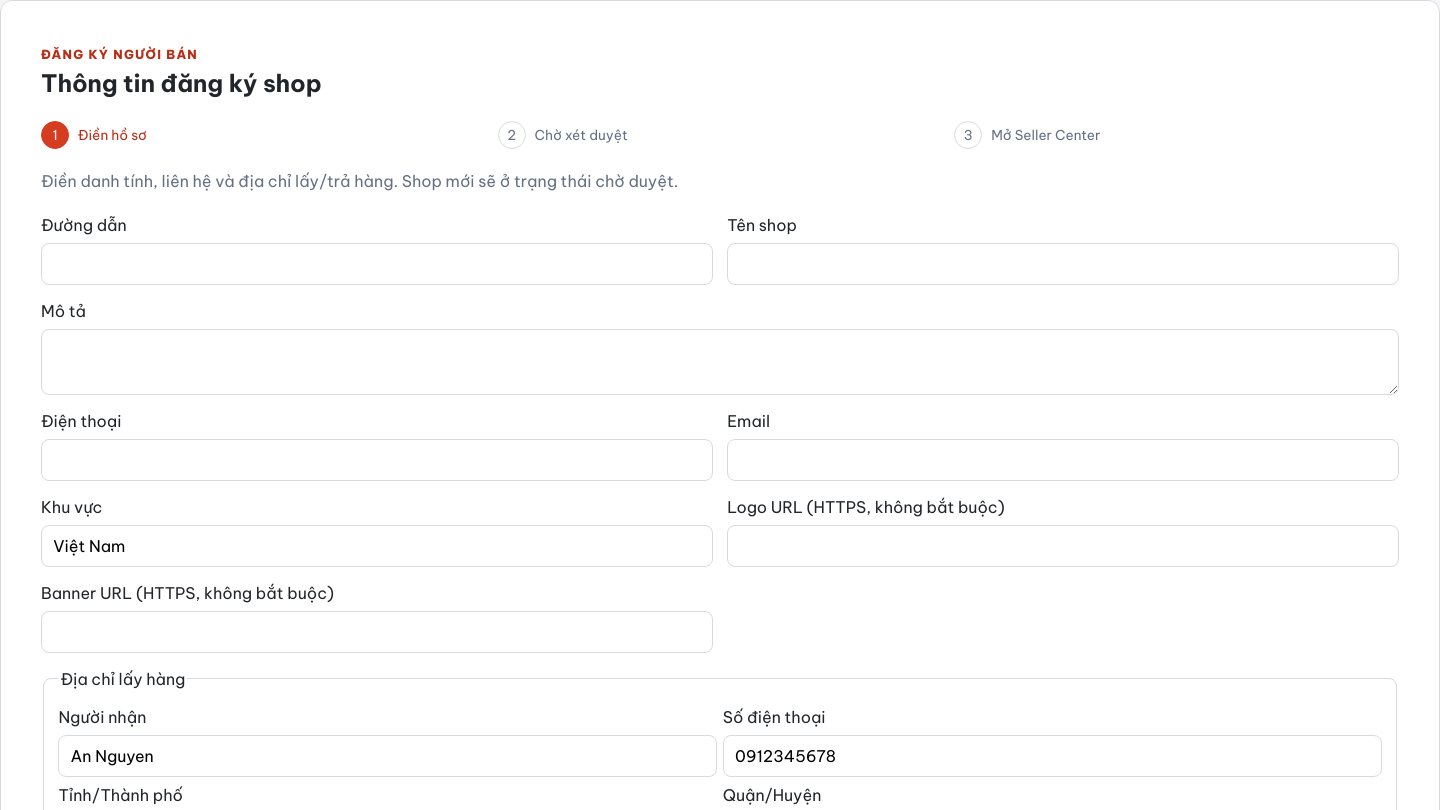
SellerShopManagement › recovers from a duplicate registration response without losing the form
Type "duplicate-shop" into the field named "slug". click: point(377, 264)
box: x1=41 y1=243 x2=713 y2=285
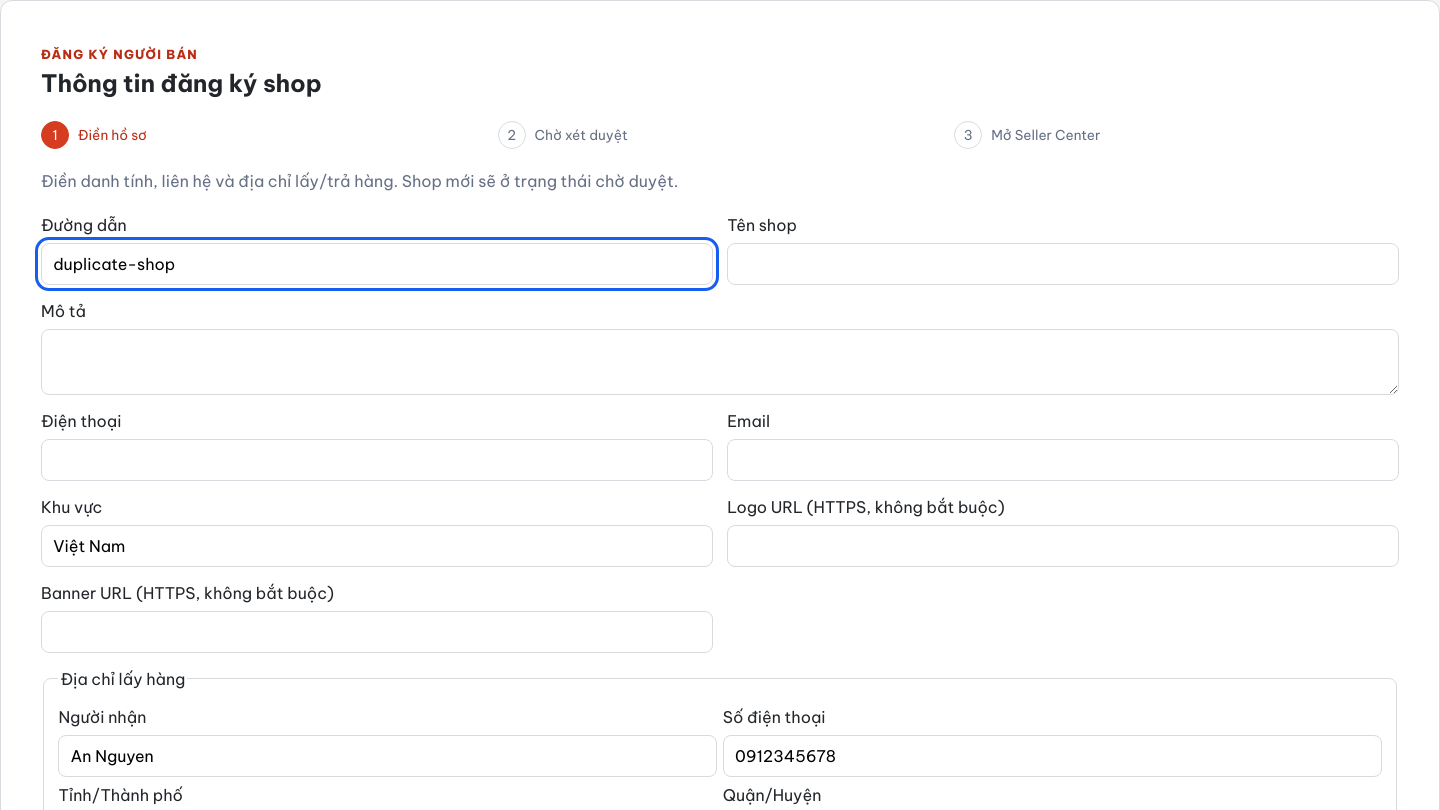
Type "Duplicate Shop" into the field named "name". click: point(1063, 264)
box: x1=727 y1=243 x2=1399 y2=285
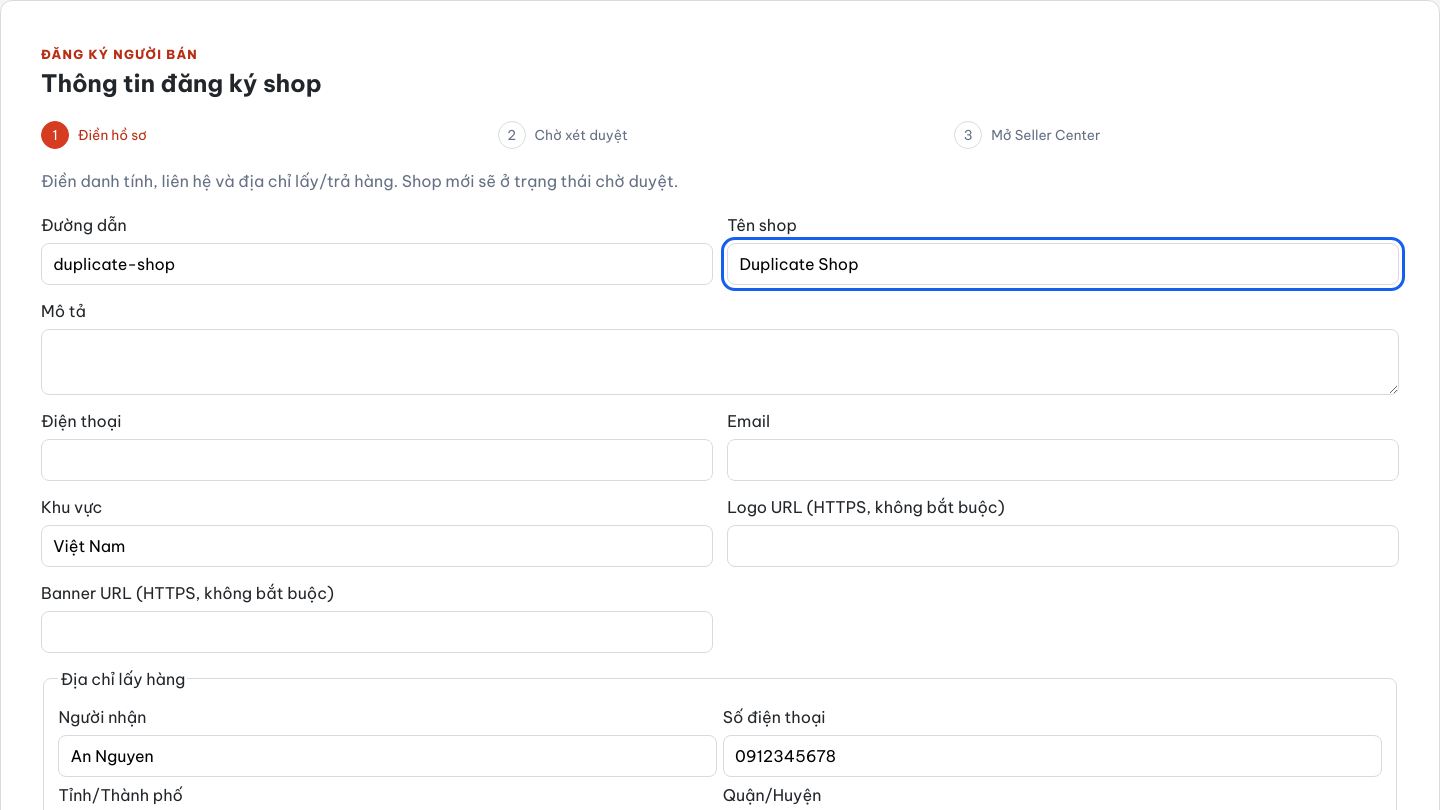
Type "0912345678" into the field named "contactPhone". click: point(377, 460)
box: x1=41 y1=439 x2=713 y2=481
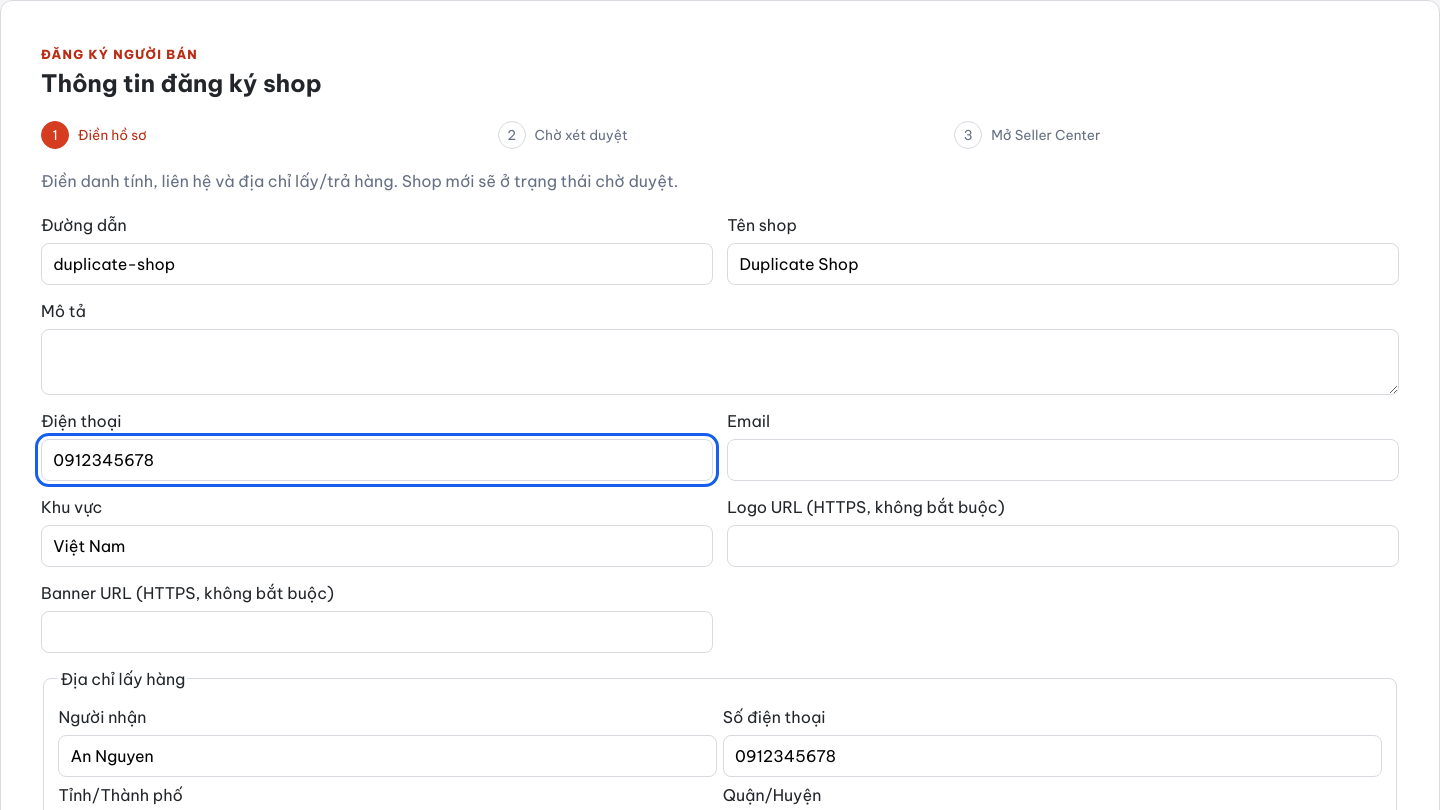
Type "duplicate@example.test" into the field named "contactEmail". click: point(1063, 460)
box: x1=727 y1=439 x2=1399 y2=481
(page scrolled)
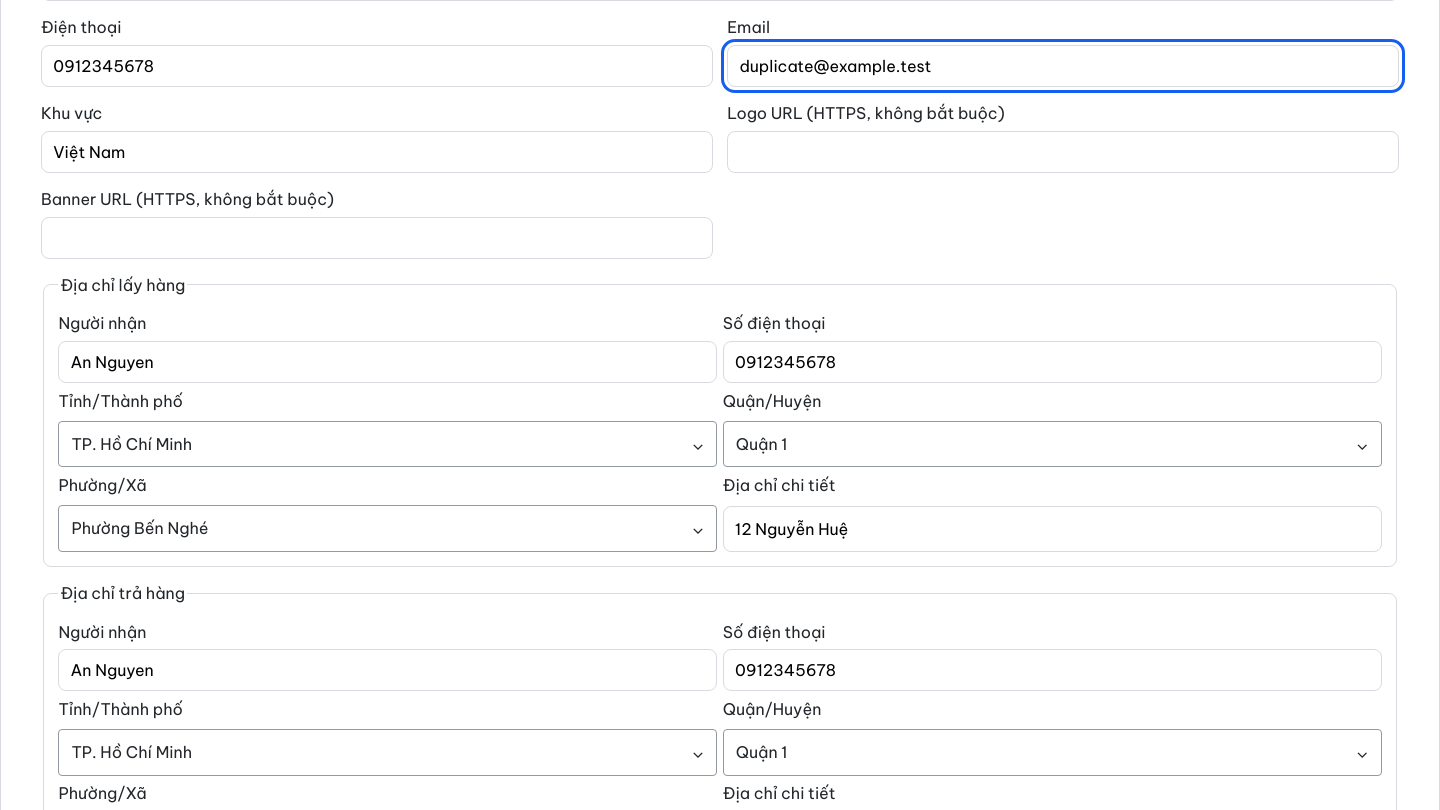
Submit the form with class "seller-shop-form"
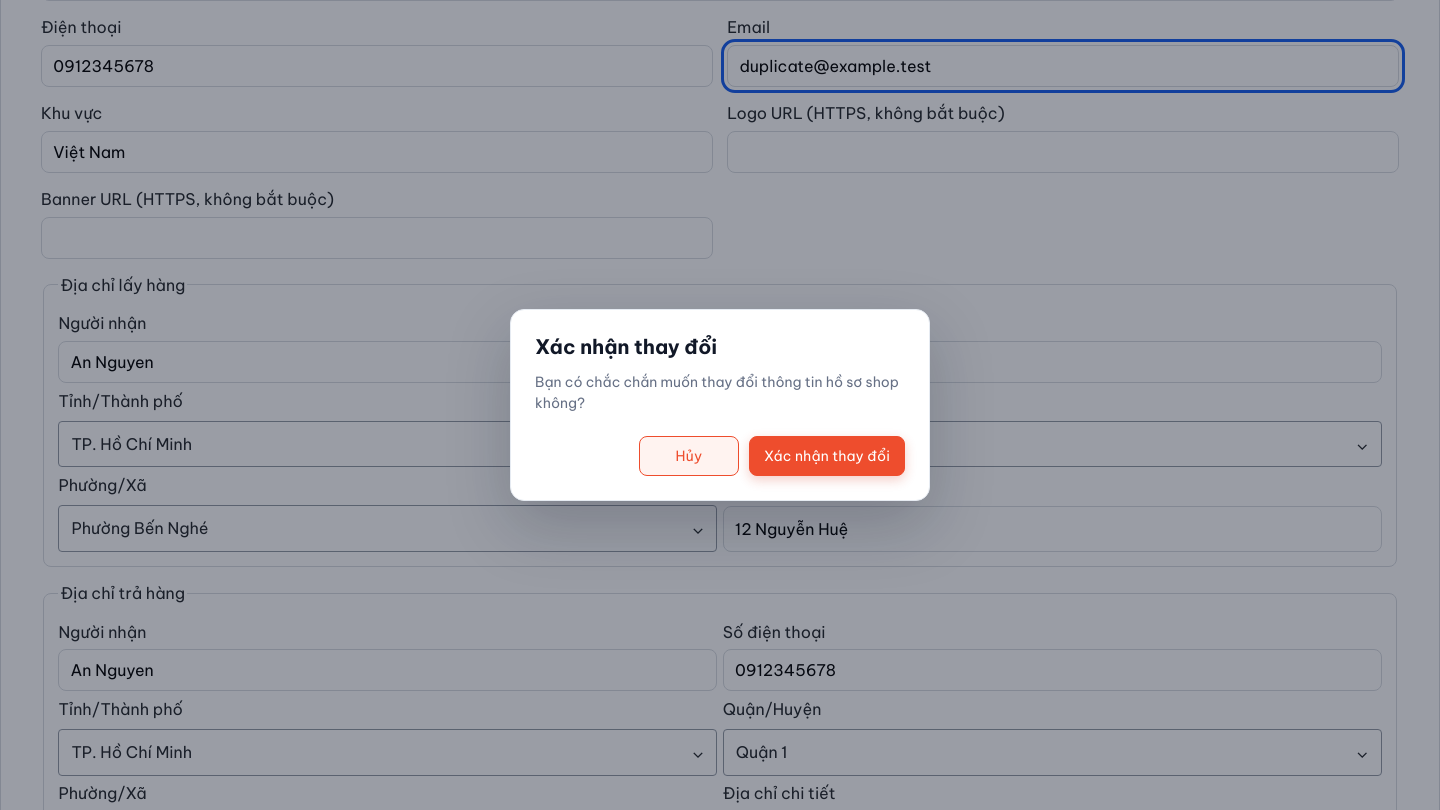
Click the button "Xác nhận thay đổi". click: point(827, 456)
box: x1=749 y1=436 x2=905 y2=476
(page scrolled)
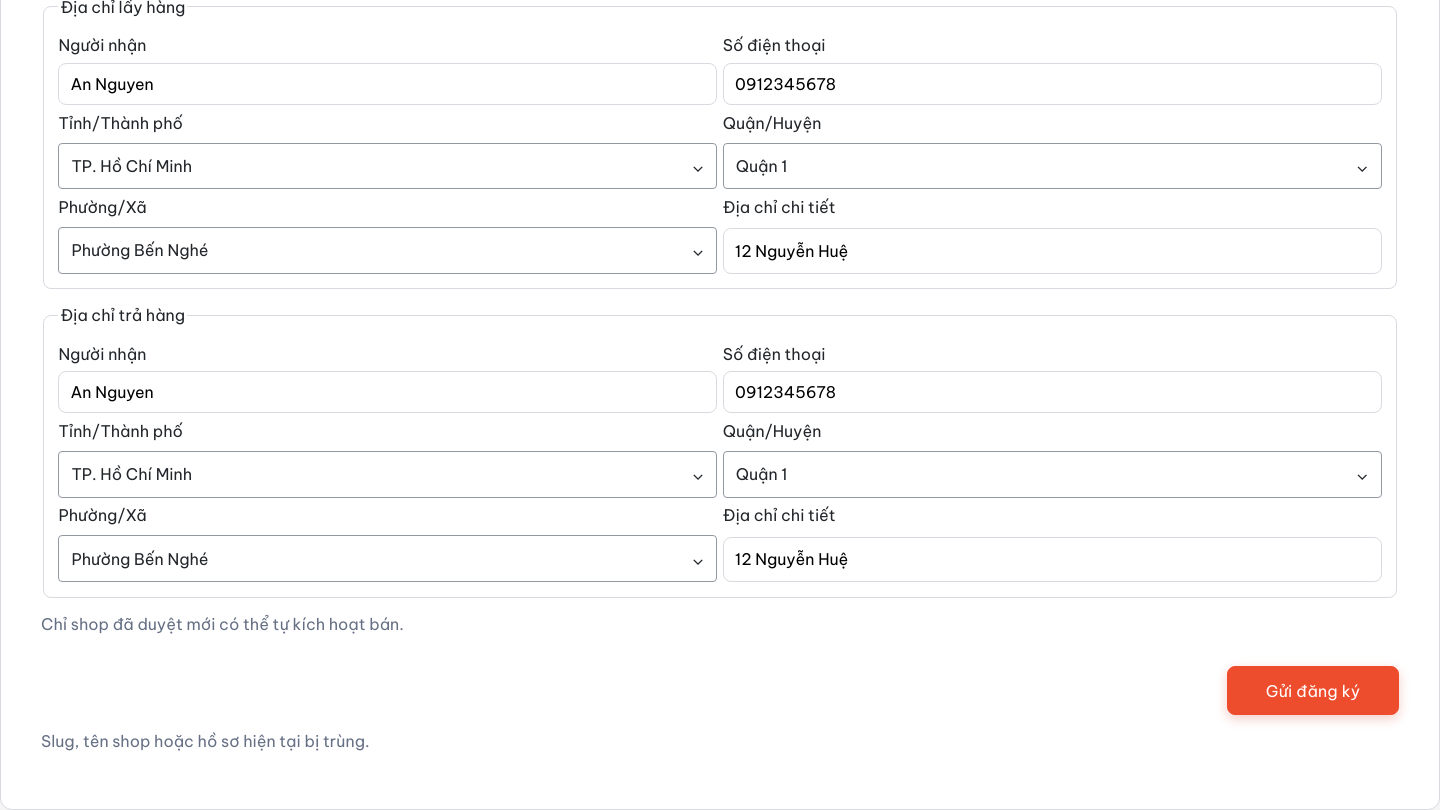
Check: the message shows "Slug", box x1=41 y1=731 x2=370 y2=751
